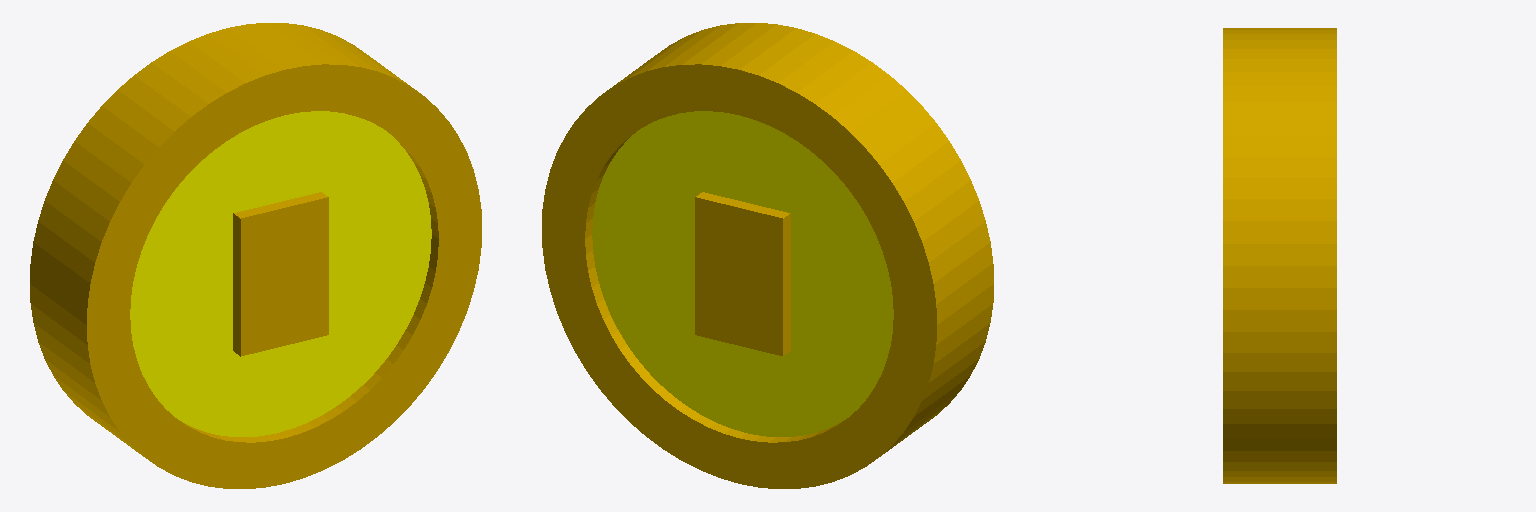
The model's file is tinker.obj.
3 renders of one model, left to right at view 1: azimuth 30°, elevation 25°; view 2: azimuth 150°, elevation 25°; view 3: azimuth 270°, elevation 25°, orthographic.
Parts seen in each view (by area): view 1: obj_0; view 2: obj_0; view 3: obj_0.
Boxes of the visible parts, x1,y1,x2,y2 form: obj_0: [30, 23, 481, 488]; obj_0: [542, 23, 993, 488]; obj_0: [1223, 28, 1336, 483].
Bounding box in the file's own units: 12 × 12 × 3.